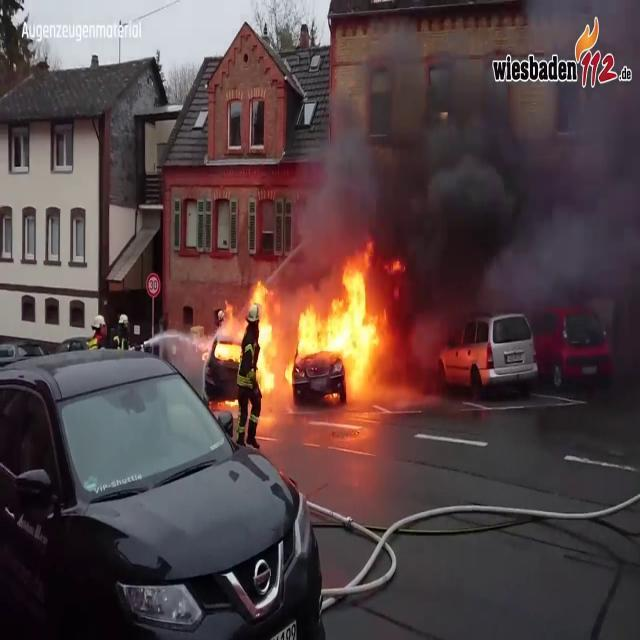Fire: (208, 248, 396, 401)
Smoke: (298, 2, 640, 305)
